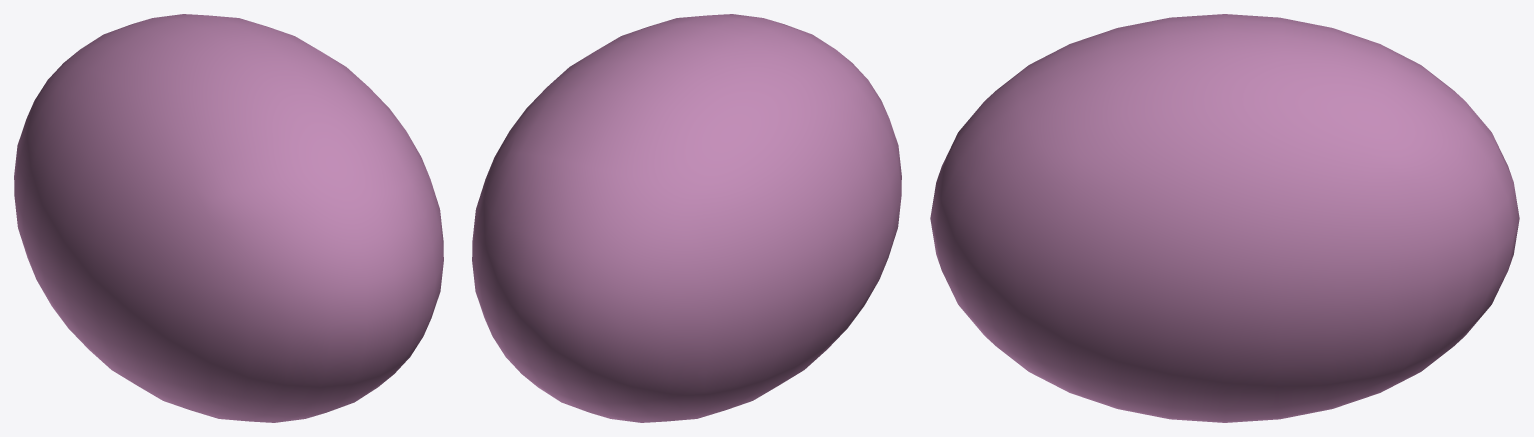
3 views of the same model, side by side, from view 1: azimuth 30°, elevation 25°; view 2: azimuth 150°, elevation 25°; view 3: azimuth 270°, elevation 25° (orthographic). The views are drawn at different scales.
Parts seen in each view (by area): view 1: 右侧面神经核; view 2: 右侧面神经核; view 3: 右侧面神经核.
Boxes of the visible parts, x1,y1,x2,y2 form: 右侧面神经核: [14, 14, 443, 422]; 右侧面神经核: [472, 14, 901, 422]; 右侧面神经核: [930, 14, 1519, 422].
Bounding box in the file's own units: 0.00237 × 0.00237 × 0.0034.
